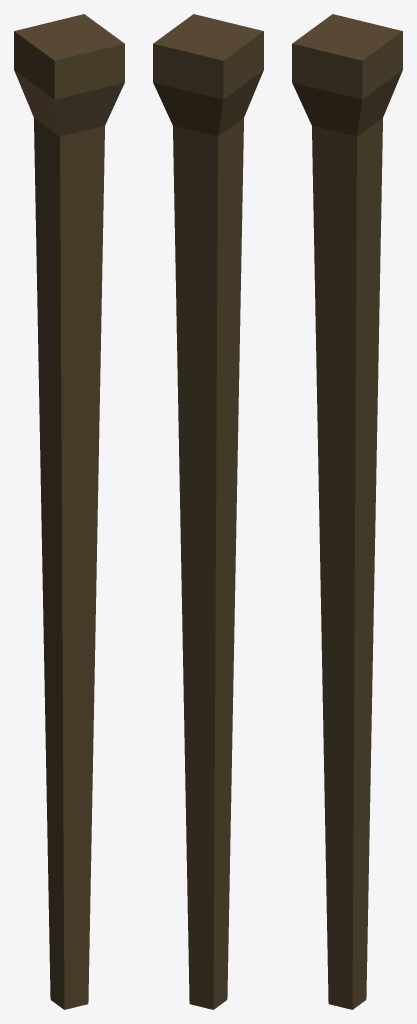
File: Torch.fbx
3 renders of one model, left to right at view 1: azimuth 30°, elevation 25°; view 2: azimuth 150°, elevation 25°; view 3: azimuth 330°, elevation 25°, orthographic.
Visible parts, largest first — view 1: Cube.052; view 2: Cube.052; view 3: Cube.052.
Boxes of the visible parts, x1,y1,x2,y2 form: Cube.052: [14, 14, 124, 1009]; Cube.052: [153, 14, 263, 1009]; Cube.052: [292, 14, 402, 1009].
Size of the model in its own units: 37.85 by 497 by 37.85.
